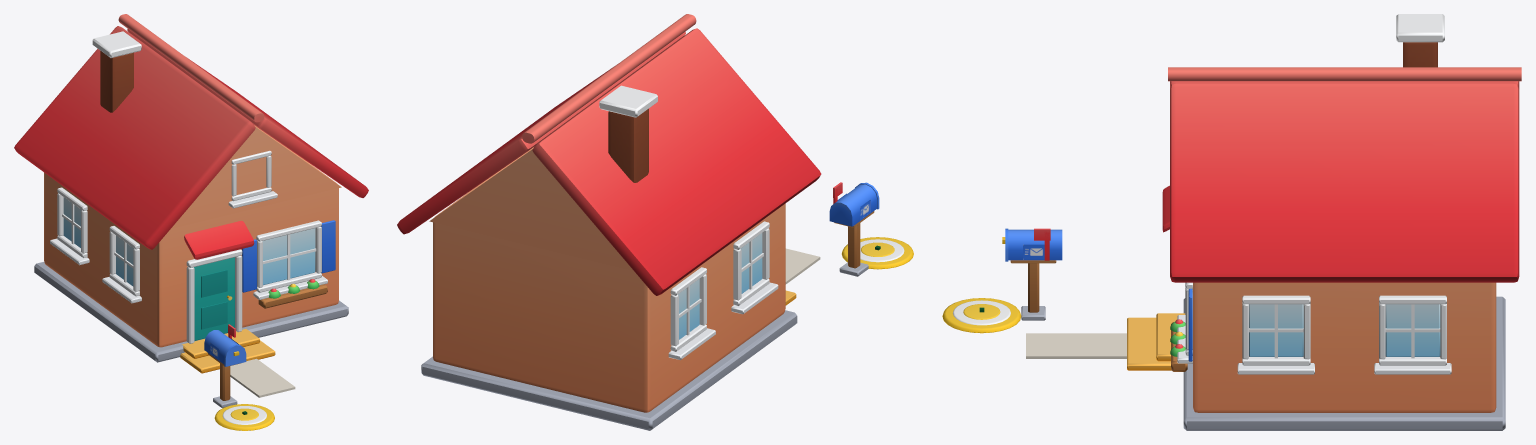
The model's file is house_gable.glb.
3 renders of one model, left to right at view 1: azimuth 30°, elevation 25°; view 2: azimuth 150°, elevation 25°; view 3: azimuth 270°, elevation 25°, orthographic. The views are drawn at different scales.
Parts seen in each view (by area): view 1: house_gable; view 2: house_gable; view 3: house_gable.
Part boxes in pixels (x1=…): house_gable: x1=14, y1=14, x2=368, y2=430; house_gable: x1=397, y1=14, x2=913, y2=430; house_gable: x1=942, y1=14, x2=1521, y2=430.
Bounding box in the file's own units: 22.22 × 23.18 × 38.15.
Materials: 1 (1 with a texture image).
